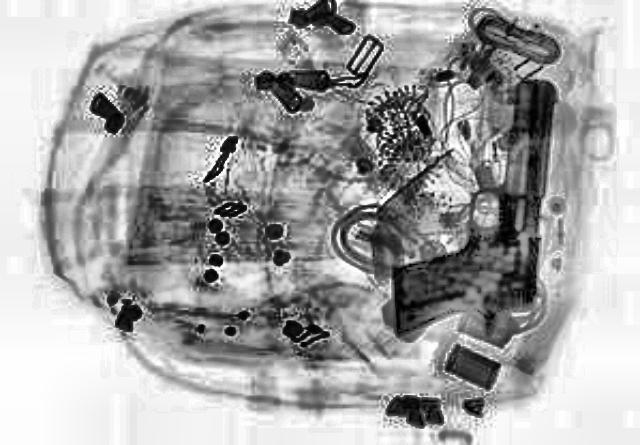Gun: (388, 73, 556, 339)
